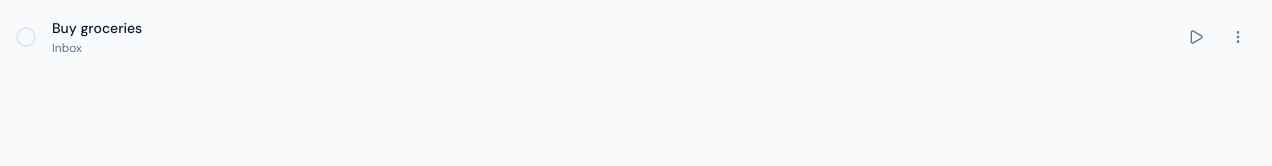
Test: TaskCard › opens the dropdown menu when the options button is clicked
The width and height of the screenshot is (1272, 166).
Step 1. Click the button named "options for" → (1238, 37), box [1216,15,1260,59]
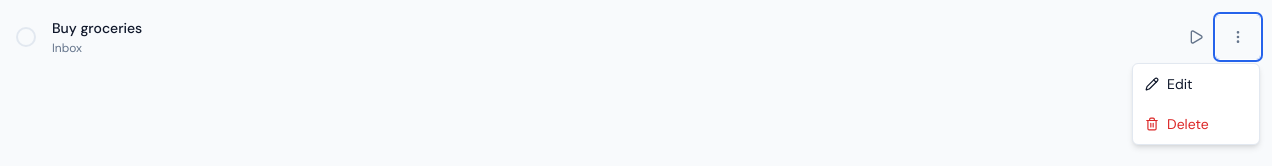
Now the menu is shown, box [1132,63,1260,145]
